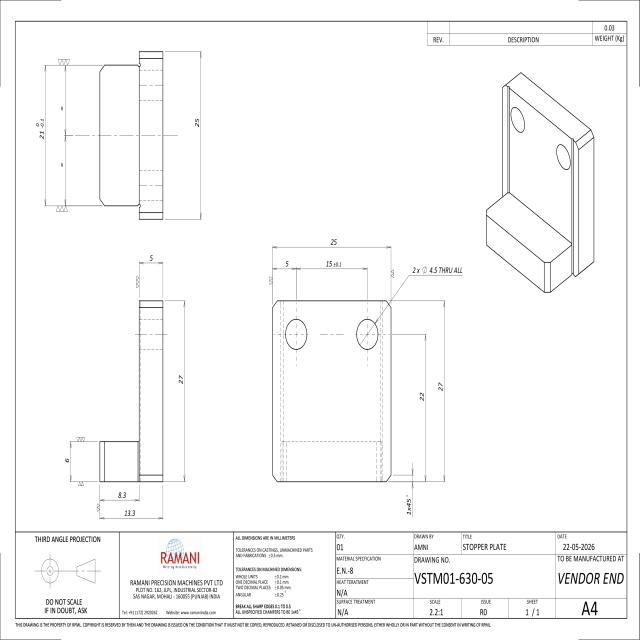dimension: (412, 265, 464, 275), (35, 117, 45, 141), (324, 259, 343, 269), (405, 494, 413, 516), (123, 508, 136, 518), (117, 490, 127, 500), (437, 380, 444, 393), (329, 237, 338, 247), (418, 390, 425, 402), (178, 373, 185, 385), (194, 118, 200, 128), (149, 253, 154, 263), (64, 457, 70, 464), (284, 260, 289, 268)
